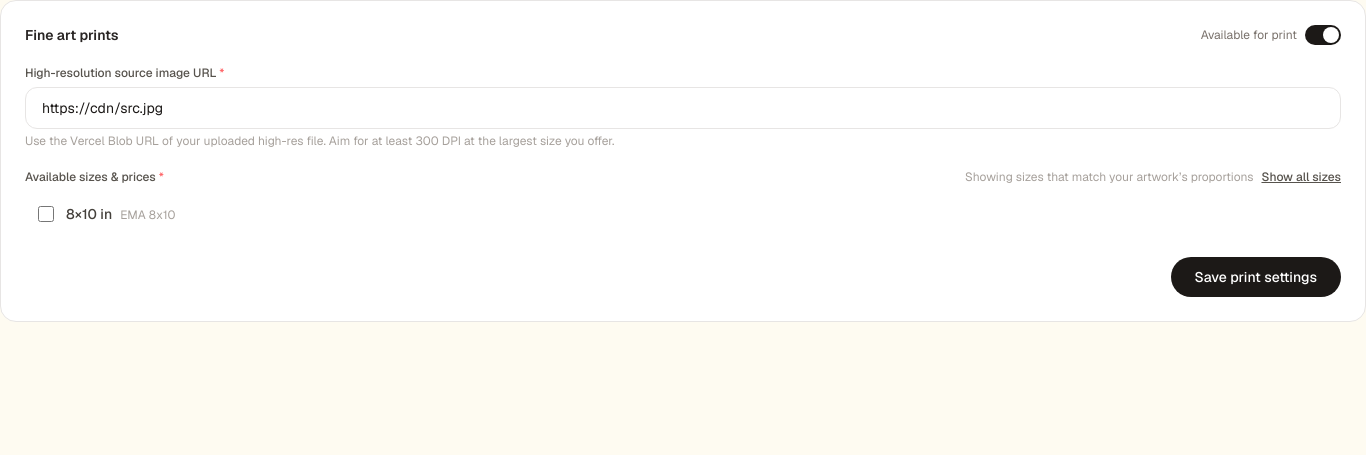
PrintConfigForm — show all Prodigi sizes (seller option) › reveals the full Prodigi catalog when 'Show all sizes' is clicked
Click the button "Show all sizes". click: [1301, 177]
box: [1262,169,1341,185]
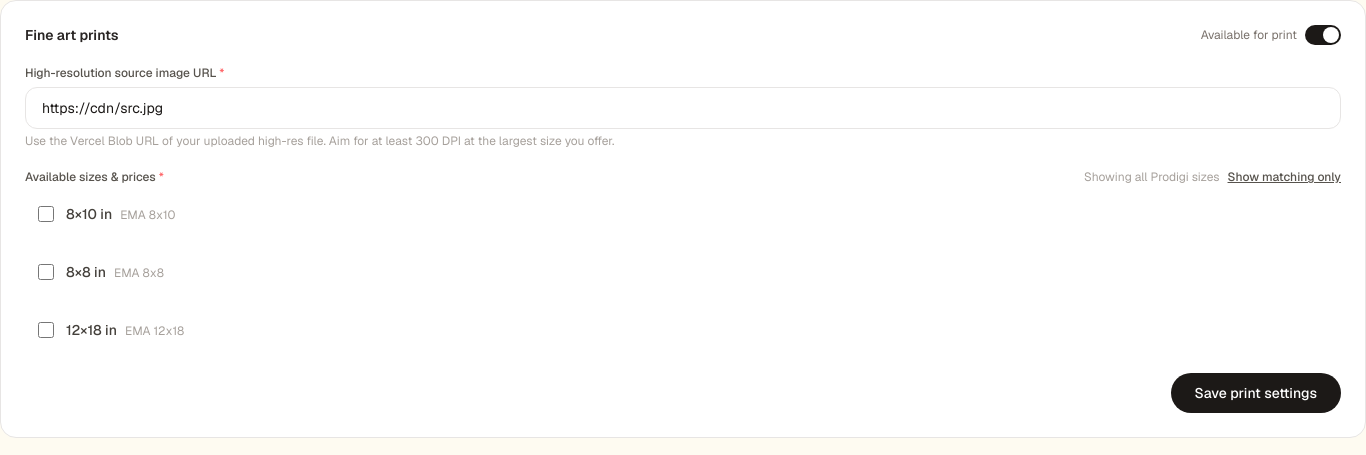
Result: the number of checkboxes is 3 at [38,206,54,222]; [38,264,54,280]; [38,322,54,338]
Result: the text "8×8 in" is shown at [66,263,106,281]
Result: the text "12×18 in" is shown at [66,321,117,339]
